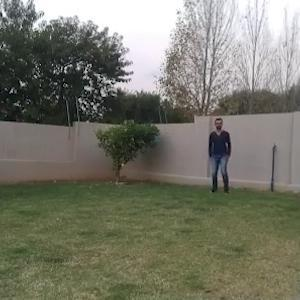follow: (208, 115, 228, 196)
